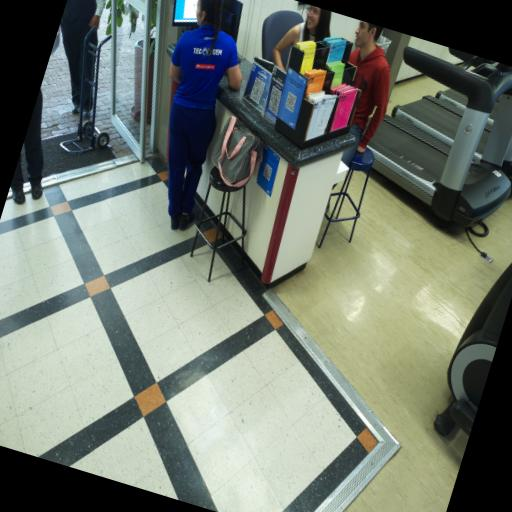person: (168, 0, 242, 230), (342, 21, 390, 165), (59, 0, 106, 114), (273, 5, 331, 69), (23, 90, 43, 199)
